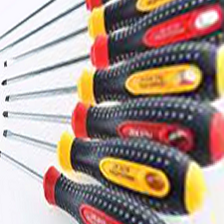screwdriver: (2, 9, 212, 223)
